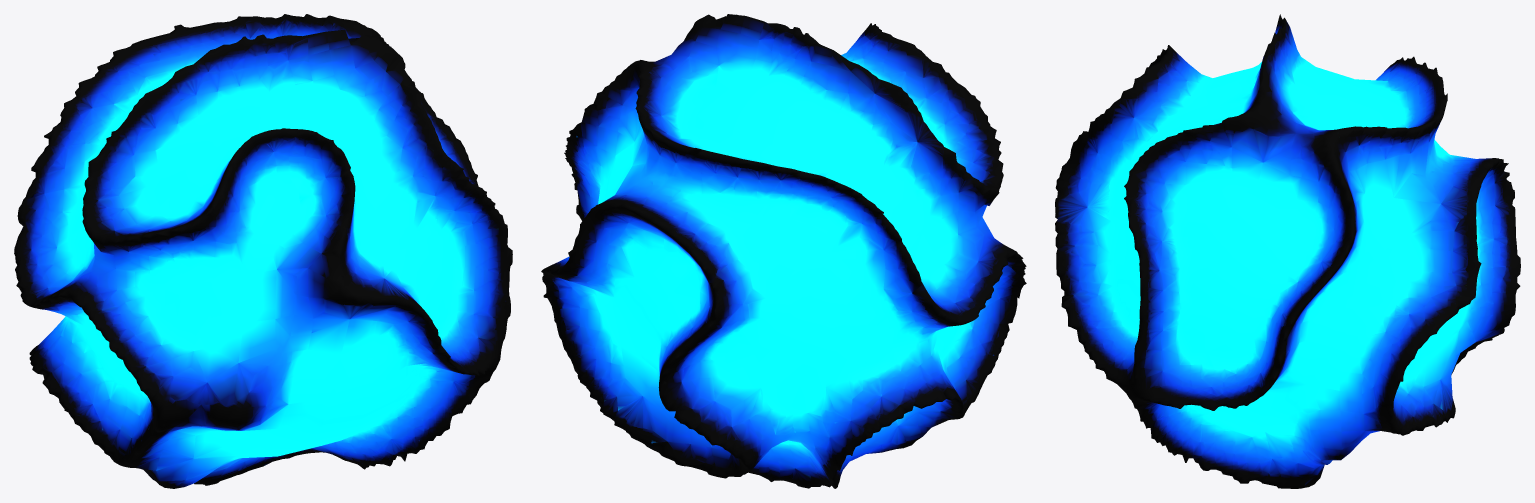
The model's file is EV_planet.glb.
3 renders of one model, left to right at view 1: azimuth 30°, elevation 25°; view 2: azimuth 150°, elevation 25°; view 3: azimuth 270°, elevation 25°, orthographic. The views are drawn at different scales.
Visible parts, largest first — view 1: Untitled.002; view 2: Untitled.002; view 3: Untitled.002.
Boxes of the visible parts, box(x1,y1,x2,y2) form: Untitled.002: box(14, 14, 512, 488); Untitled.002: box(541, 14, 1026, 488); Untitled.002: box(1055, 14, 1520, 488).
Size of the model in its own units: 759 by 758 by 752.
Materials: 1 (1 with a texture image).
